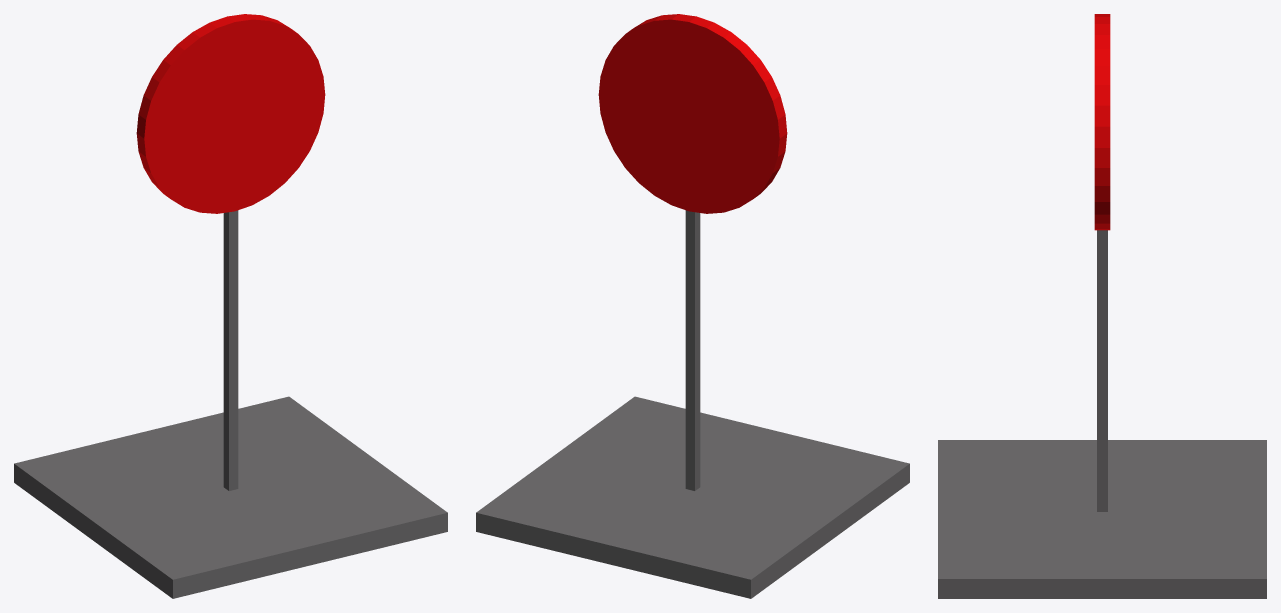
Rendered from Target_red (1).fbx.
The picture shows the model from 3 angles, left to right: view 1: azimuth 30°, elevation 25°; view 2: azimuth 150°, elevation 25°; view 3: azimuth 270°, elevation 25°; orthographic projection. The views are drawn at different scales.
Parts seen in each view (by area): view 1: Cube, Cylinder, Cube.001; view 2: Cube, Cylinder, Cube.001; view 3: Cube, Cylinder, Cube.001.
Boxes of the visible parts, x1,y1,x2,y2 form: Cube: (14,396,447,598); Cylinder: (136,14,325,213); Cube.001: (223,210,238,490); Cube: (476,396,909,598); Cylinder: (598,14,787,213); Cube.001: (685,210,700,490); Cube: (938,440,1266,598); Cylinder: (1094,14,1110,230); Cube.001: (1097,230,1107,511).
Size of the model in its own units: 600 by 1017 by 600.
